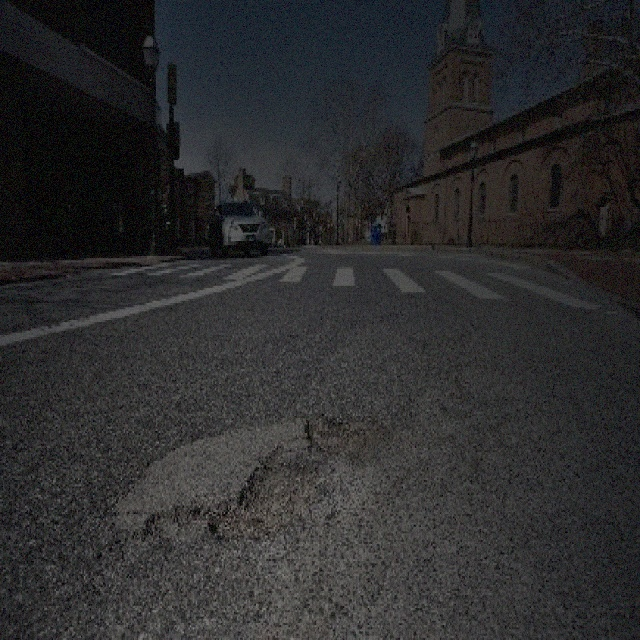pothole: (203, 450, 313, 548), (302, 410, 394, 463)
